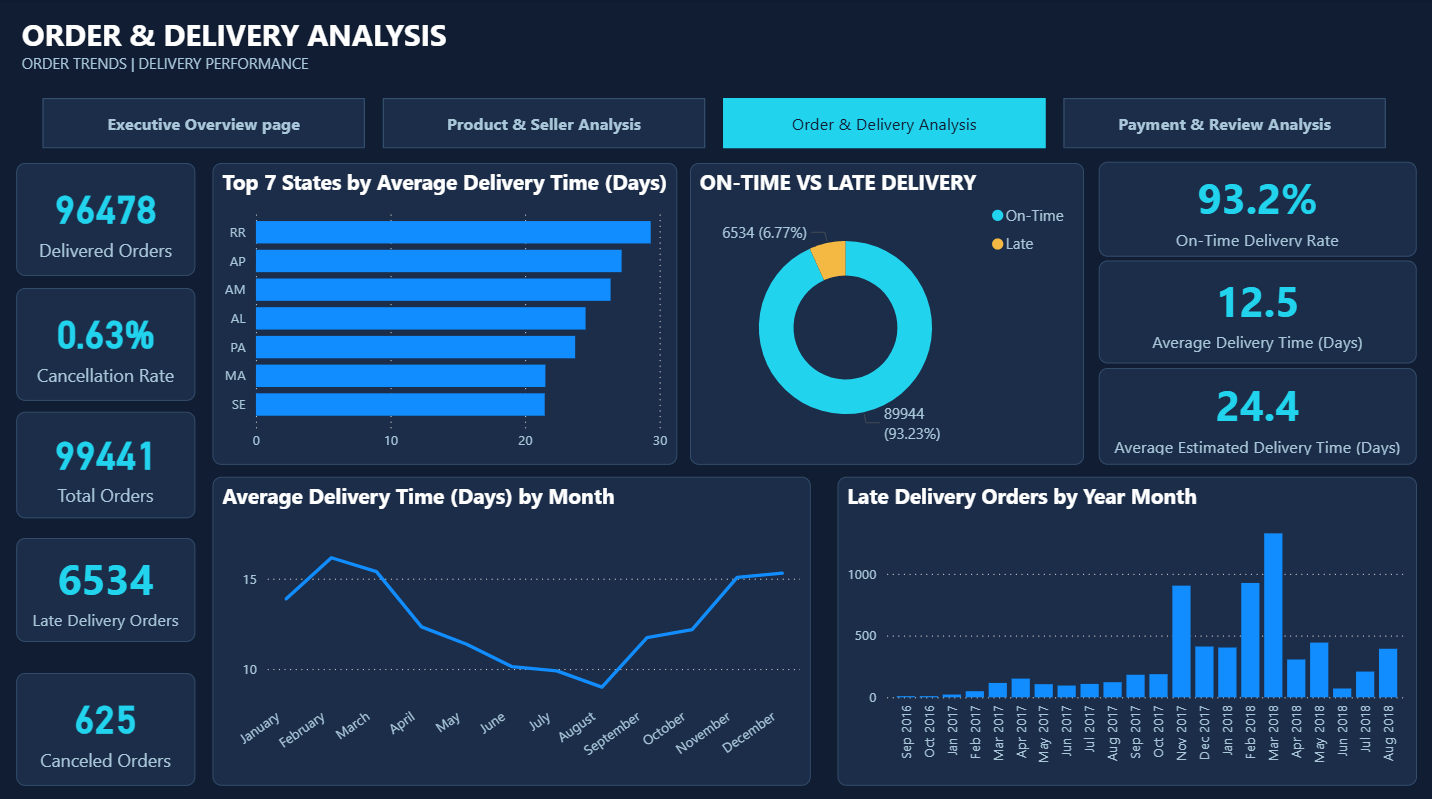

What the dashboard file says about the page in this screenshot:
{"tool":"powerbi","page":{"name":"Order & Delivery Analysis","canvas":[1280,720],"ordinal":2},"visuals":[{"type":"pageNavigator","box":[38,89.3,1200.4,45.8],"z":0},{"type":"textbox","box":[14.2,9,1251.9,65.8],"z":1000},{"type":"card","fields":{"Values":["measures_.Delivered Orders"]},"box":[14.2,147.1,160,100.7],"z":2000},{"type":"card","fields":{"Values":["measures_.Cancellation Rate"]},"box":[14.2,259.4,160,100.7],"z":3000},{"type":"card","fields":{"Values":["measures_.Canceled Orders"]},"box":[14.2,602.7,160,100.7],"z":4000},{"type":"card","fields":{"Values":["measures_.Total Orders"]},"box":[14.2,369.1,160,95.5],"z":5000},{"type":"card","fields":{"Values":["measures_.Average Delivery Time (Days)"]},"box":[981.5,234.9,283.9,91.6],"z":6000},{"type":"card","fields":{"Values":["measures_.Average Estimated Delivery Time (Days)"]},"box":[981.5,330.4,283.9,86.5],"z":7000},{"type":"card","fields":{"Values":["measures_.On-Time Delivery Rate"]},"box":[981.5,145.8,283.9,85.2],"z":8000},{"type":"card","fields":{"Values":["measures_.Late Delivery Orders"]},"box":[14.2,482.7,160,92.9],"z":9000},{"type":"lineChart","fields":{"Category":["gold dim_date.full_date.Variation.Date Hierarchy.Month"],"Y":["measures_.Average Delivery Time (Days)"]},"box":[189.7,427.2,534.3,276.2],"z":10000},{"type":"donutChart","title":"ON-TIME VS LATE DELIVERY","fields":{"Category":["Delivery Status.Delivery Status"],"Y":["measures_.Delivery Status Orders"]},"box":[616.6,147.5,352.2,269.5],"z":11000},{"type":"clusteredBarChart","title":"Top 7 States by Average Delivery Time (Days)","fields":{"Category":["gold dim_customers.customer_state"],"Y":["measures_.Average Delivery Time (Days)"]},"box":[189.7,147.1,415.6,269.7],"z":12000},{"type":"clusteredColumnChart","fields":{"Y":["measures_.Late Delivery Orders"],"Category":["gold dim_date.Year Month"]},"box":[748.5,427.2,517.5,276.2],"z":13000}]}

Visuals, with their boxes in screenshot pixels (x1, y1, x2, y2), scaled from the page's 1280x720 canvas onto the 1432x799 screenshot:
pageNavigator: [x1=43, y1=99, x2=1385, y2=150]
textbox: [x1=16, y1=10, x2=1416, y2=83]
card - measures_.Delivered Orders: [x1=16, y1=163, x2=195, y2=275]
card - measures_.Cancellation Rate: [x1=16, y1=288, x2=195, y2=400]
card - measures_.Canceled Orders: [x1=16, y1=669, x2=195, y2=781]
card - measures_.Total Orders: [x1=16, y1=410, x2=195, y2=516]
card - measures_.Average Delivery Time (Days): [x1=1098, y1=261, x2=1416, y2=362]
card - measures_.Average Estimated Delivery Time (Days): [x1=1098, y1=367, x2=1416, y2=463]
card - measures_.On-Time Delivery Rate: [x1=1098, y1=162, x2=1416, y2=256]
card - measures_.Late Delivery Orders: [x1=16, y1=536, x2=195, y2=639]
lineChart - gold dim_date.full_date.Variation.Date Hierarchy.Month x measures_.Average Delivery Time (Days): [x1=212, y1=474, x2=810, y2=781]
"ON-TIME VS LATE DELIVERY" donutChart: [x1=690, y1=164, x2=1084, y2=463]
"Top 7 States by Average Delivery Time (Days)" clusteredBarChart: [x1=212, y1=163, x2=677, y2=463]
clusteredColumnChart - measures_.Late Delivery Orders x gold dim_date.Year Month: [x1=837, y1=474, x2=1416, y2=781]
